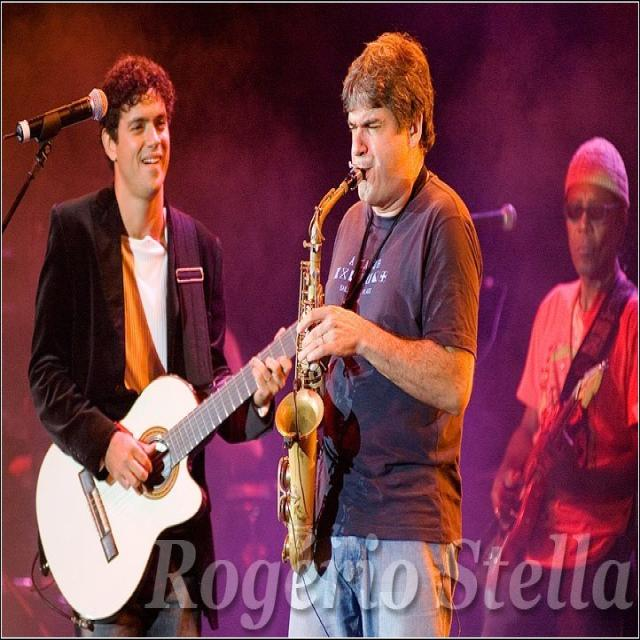guitar: (33, 315, 306, 621), (486, 358, 610, 566)
saxophone: (271, 164, 367, 574)
